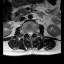CCS_normal: (29, 29, 31, 40)
LFS_stenosis: (33, 29, 35, 35)
LLS_normal: (31, 29, 33, 36)
RFS_stenosis: (25, 30, 27, 36)
RLS_normal: (27, 29, 29, 36)
